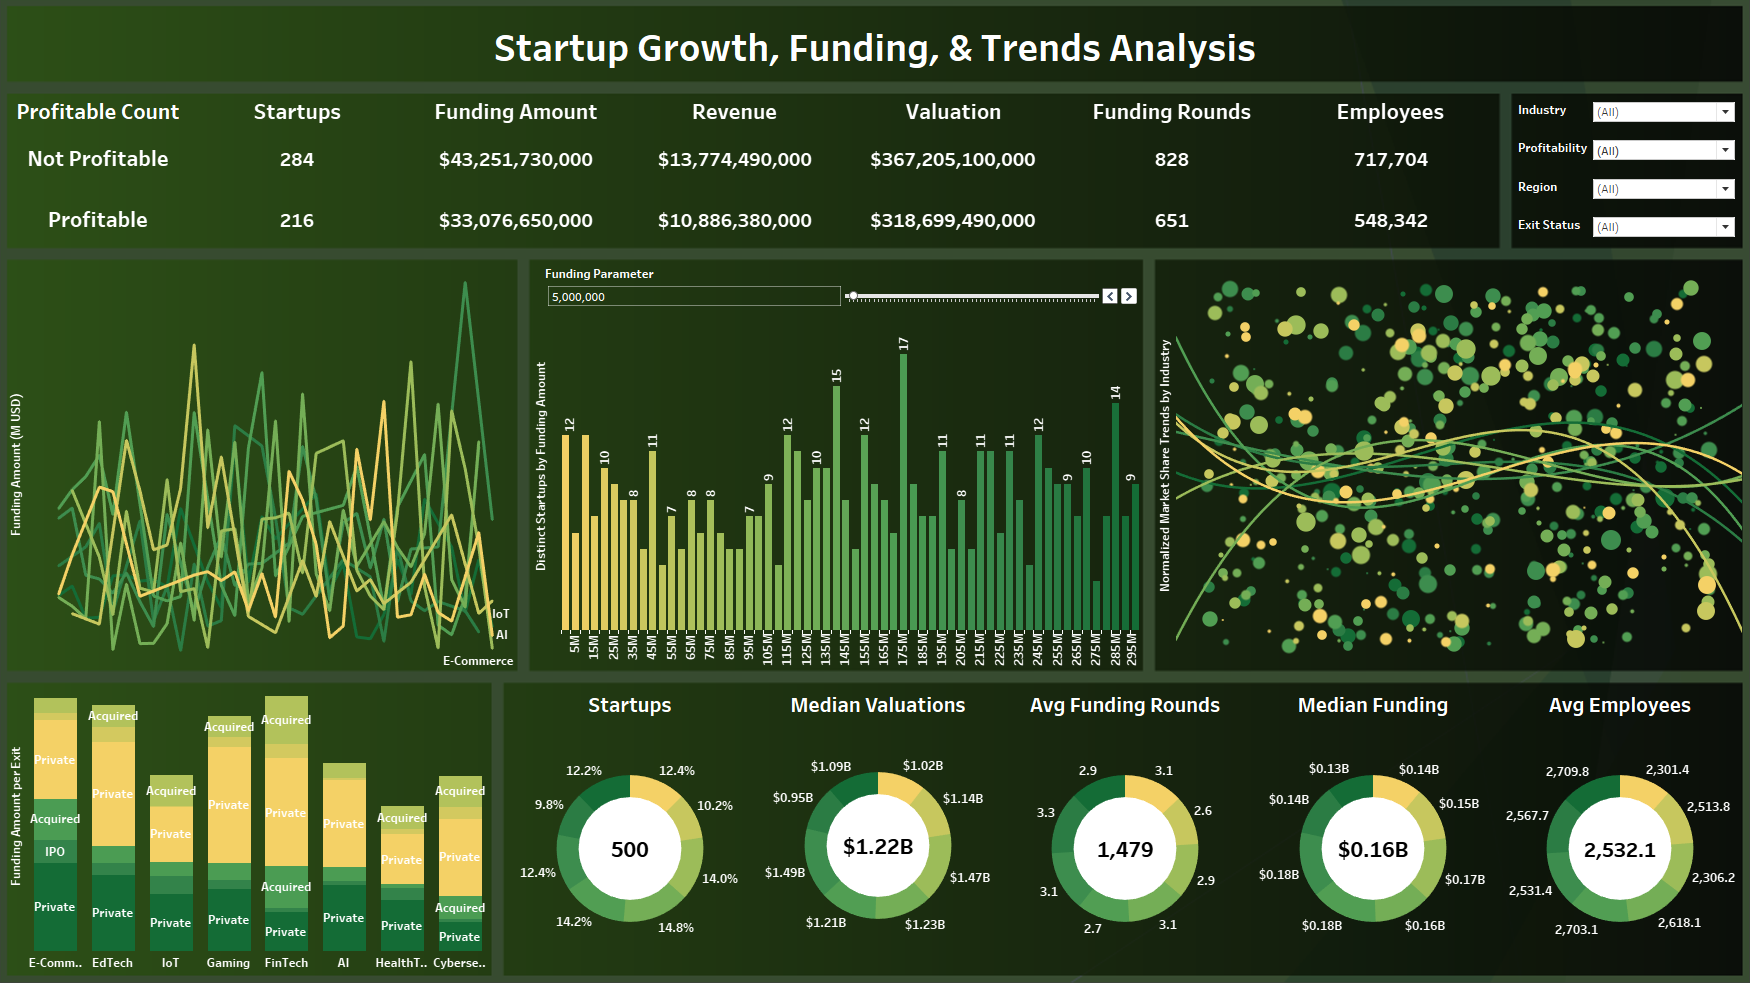

Layout of this report page (visuals, bound fields, positions):
{"tool":"tableau","page":{"name":"Dashboard 1","canvas":[1000,1000],"units":"permille","ordinal":0},"visuals":[{"type":"image","param":"Image/HR background.png","box":[4.7,9.3,990.6,981.5]},{"type":"text","box":[67.9,22,864.8,75.2]},{"type":"worksheet","title":"KPIs","mark":"Automatic","rows":["Calculation_670473449813262338"],"box":[48.6,107.6,777.1,152.8]},{"type":"filter","title":"Startup's Funding by Amount","param":"[federated.04p0bp30llrisl15oqz1g14w0qqe].[none:Industry:nk]","box":[832.6,107.6,118.8,38.2]},{"type":"filter","title":"Yearly Funding amount by Industry","param":"[federated.04p0bp30llrisl15oqz1g14w0qqe].[none:Calculation_1626080995396374531:n","box":[832.6,145.8,118.8,38.2]},{"type":"filter","title":"Startup's Funding by Amount","param":"[federated.04p0bp30llrisl15oqz1g14w0qqe].[none:Region:nk]","box":[832.6,184,118.8,38.2]},{"type":"filter","title":"Startups","param":"[federated.04p0bp30llrisl15oqz1g14w0qqe].[none:Exit Status:nk]","box":[832.6,222.2,118.8,38.2]},{"type":"worksheet","title":"Yearly Funding amount by Industry","mark":"Automatic","rows":["Funding Amount (M USD)"],"cols":["Year Founded"],"box":[48,273.2,264.5,403.9]},{"type":"worksheet","title":"Growth Metrics: Employees, Market Share, & Valuation","mark":"Circle","rows":["Calculation_1626080995378913281"],"cols":["Employees"],"box":[646.6,273.2,305.4,405.1]},{"type":"parameter","param":"[Parameters].[Parameter 1]","box":[328.3,276.6,310.1,48.6]},{"type":"worksheet","title":"Startup's Funding by Amount","mark":"Bar","rows":["Startup Name"],"cols":["Funding Amount (Millions Actual) (bin)"],"box":[317.7,316,320.1,358.8]},{"type":"worksheet","title":"Startups","mark":"Pie","rows":["Calculation_1168965633247436803","Calculation_1168965633247436803"],"box":[307.8,688.7,129,288.2]},{"type":"worksheet","title":"Median Valuations","mark":"Pie","rows":["Calculation_1168965633247436803","Calculation_1168965633247436803"],"box":[436.7,688.7,129,288.2]},{"type":"worksheet","title":"Avg Funding Rounds","mark":"Pie","rows":["Calculation_1168965633247436803","Calculation_1168965633247436803"],"box":[565.7,688.7,129,288.2]},{"type":"worksheet","title":"Median Funding","mark":"Pie","rows":["Calculation_1168965633247436803","Calculation_1168965633247436803"],"box":[694.7,688.7,129,288.2]},{"type":"worksheet","title":"Avg Employees","mark":"Pie","rows":["Calculation_1168965633247436803","Calculation_1168965633247436803"],"box":[823.6,688.7,129,288.2]},{"type":"worksheet","title":"Funding, Profitibility, & Exit by Industry ","mark":"Automatic","rows":["Calculation_1168965633299288072"],"cols":["Industry"],"box":[48,689.8,251,285.9]}]}

Visuals, with their boxes on the dashboard's canvas, which has no fixed pixel size, in thousandths of its width and height (x1, y1, x2, y2). These are canvas units, not pixel positions in the 1750x983 screenshot, which may show the page scaled, cropped or inside an application window:
image: bbox(5, 9, 995, 991)
text: bbox(68, 22, 933, 97)
"KPIs" worksheet: bbox(49, 108, 826, 260)
"Startup's Funding by Amount" filter: bbox(833, 108, 951, 146)
"Yearly Funding amount by Industry" filter: bbox(833, 146, 951, 184)
"Startup's Funding by Amount" filter: bbox(833, 184, 951, 222)
"Startups" filter: bbox(833, 222, 951, 260)
"Yearly Funding amount by Industry" worksheet: bbox(48, 273, 312, 677)
"Growth Metrics: Employees, Market Share, & Valuation" worksheet (Circle marks): bbox(647, 273, 952, 678)
parameter: bbox(328, 277, 638, 325)
"Startup's Funding by Amount" worksheet (Bar marks): bbox(318, 316, 638, 675)
"Startups" worksheet (Pie marks): bbox(308, 689, 437, 977)
"Median Valuations" worksheet (Pie marks): bbox(437, 689, 566, 977)
"Avg Funding Rounds" worksheet (Pie marks): bbox(566, 689, 695, 977)
"Median Funding" worksheet (Pie marks): bbox(695, 689, 824, 977)
"Avg Employees" worksheet (Pie marks): bbox(824, 689, 953, 977)
"Funding, Profitibility, & Exit by Industry " worksheet: bbox(48, 690, 299, 976)
